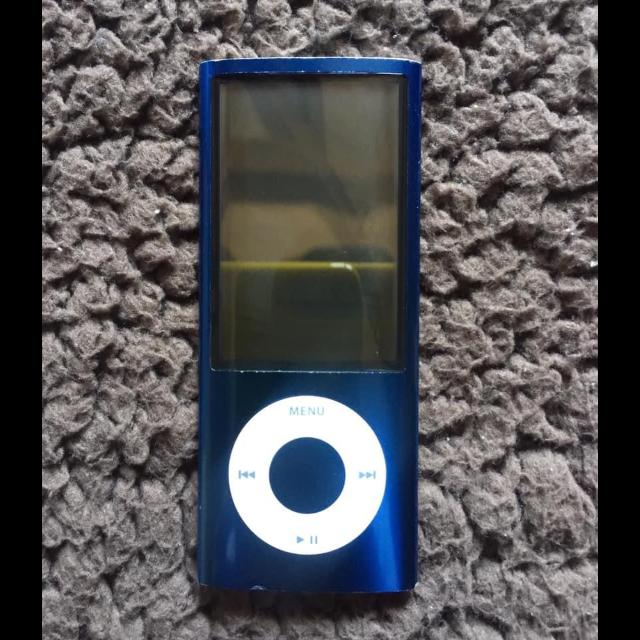Music-Player: (188, 42, 440, 612)
